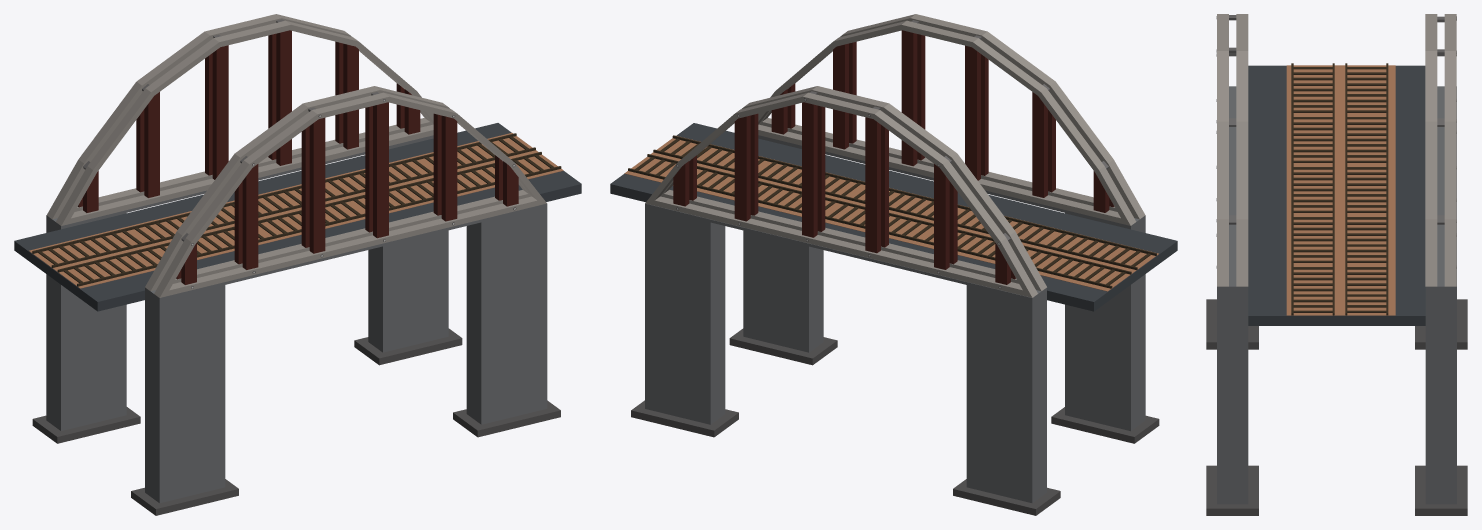
The model's file is TrainBridge_1.fbx.
3 views of the same model, side by side, from view 1: azimuth 30°, elevation 25°; view 2: azimuth 150°, elevation 25°; view 3: azimuth 270°, elevation 25° (orthographic). The views are drawn at different scales.
Visible parts, largest first — view 1: TrainBridge_1; view 2: TrainBridge_1; view 3: TrainBridge_1.
Boxes of the visible parts, x1,y1,x2,y2 form: TrainBridge_1: (14,14,581,515); TrainBridge_1: (610,14,1177,515); TrainBridge_1: (1206,14,1467,515).
Bounding box in the file's own units: 3004 × 2119 × 1326.
